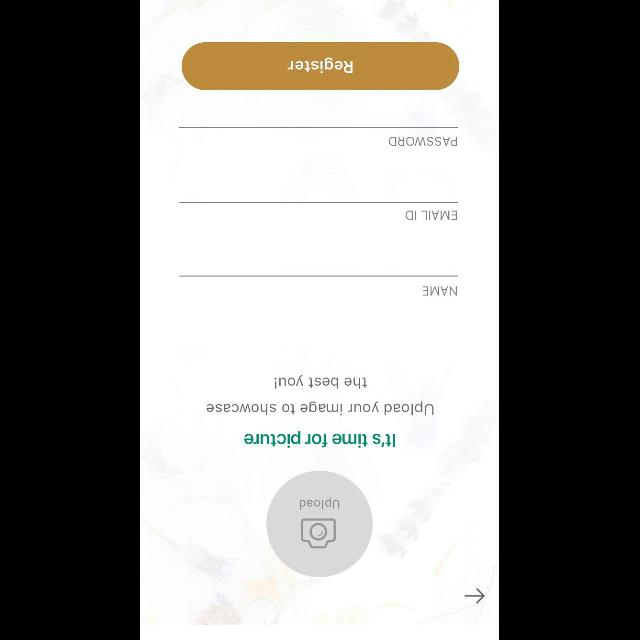icon: (464, 587, 486, 603)
image: (267, 471, 373, 577)
input: (179, 276, 459, 296), (180, 126, 458, 146), (179, 202, 459, 220)
text: (206, 374, 434, 416), (244, 430, 396, 448), (389, 136, 457, 146), (406, 210, 458, 220), (422, 286, 458, 296)
textbutton: (182, 42, 460, 90)
